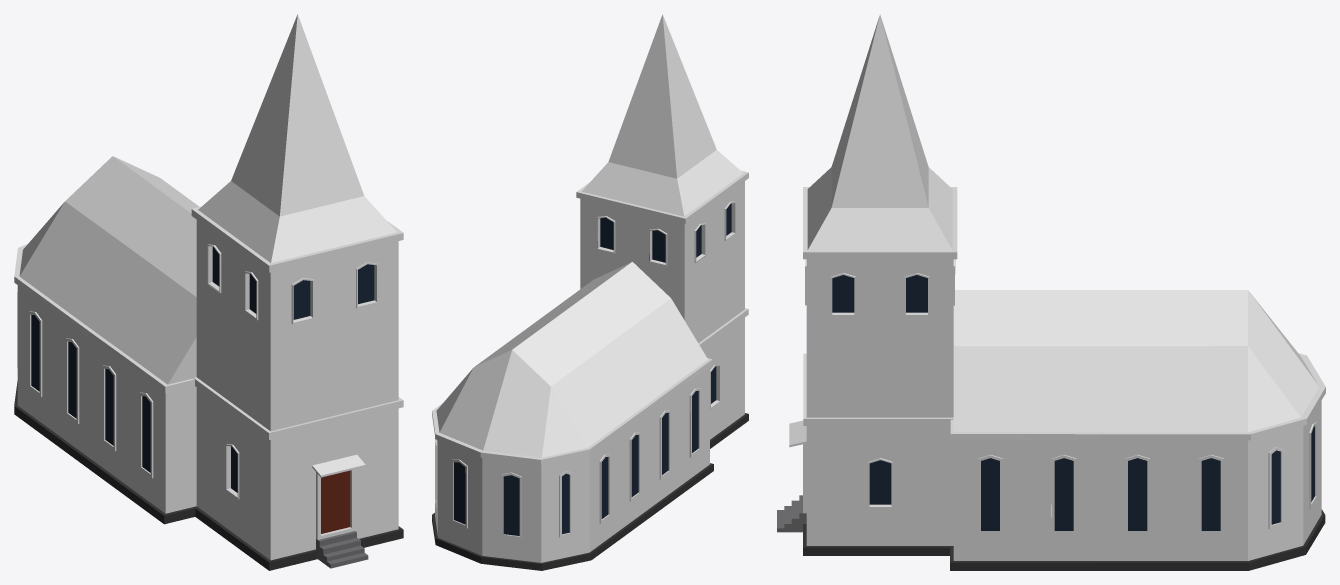
File: Buildings_Church_ver1.0.fbx
3 renders of one model, left to right at view 1: azimuth 30°, elevation 25°; view 2: azimuth 150°, elevation 25°; view 3: azimuth 270°, elevation 25°, orthographic. The views are drawn at different scales.
Visible parts, largest first — view 1: Church_Tower_MidPart, Church_Main_Roof, Church_Tower_Roof, Church_Tower_LowPart, Church_Main, Church_Main_Windows, Church_Tower_Windows, Church_Door, Church_Main_LowBevel, Church_Main_MidBevel, Church_Tower_MidBevel, Church_Tower_LowBevel (+2 smaller); view 2: Church_Main_Roof, Church_Main, Church_Tower_Roof, Church_Tower_MidPart, Church_Main_Windows, Church_Tower_LowPart, Church_Main_LowBevel, Church_Tower_Windows, Church_Main_MidBevel, Church_Tower_MidBevel; view 3: Church_Main_Roof, Church_Main, Church_Tower_MidPart, Church_Tower_Roof, Church_Tower_LowPart, Church_Main_Windows, Church_Main_LowBevel, Church_Main_MidBevel, Church_Tower_Windows, Church_Tower_MidBevel, Church_Tower_LowBevel, Church_Steps.
Part boxes in pixels (bbox=[...]): Church_Tower_MidPart: bbox=[196, 220, 398, 431]; Church_Main_Roof: bbox=[19, 156, 199, 384]; Church_Tower_Roof: bbox=[191, 14, 403, 272]; Church_Tower_LowPart: bbox=[196, 387, 398, 560]; Church_Main: bbox=[17, 285, 231, 513]; Church_Main_Windows: bbox=[17, 291, 153, 478]; Church_Tower_Windows: bbox=[207, 244, 378, 499]; Church_Door: bbox=[316, 469, 355, 539]; Church_Main_LowBevel: bbox=[14, 381, 197, 524]; Church_Main_MidBevel: bbox=[14, 244, 194, 392]; Church_Tower_MidBevel: bbox=[193, 377, 403, 439]; Church_Tower_LowBevel: bbox=[195, 507, 403, 570]; Church_Main_Roof: bbox=[436, 261, 707, 457]; Church_Main: bbox=[435, 367, 709, 562]; Church_Tower_Roof: bbox=[576, 14, 748, 224]; Church_Tower_MidPart: bbox=[580, 181, 744, 342]; Church_Main_Windows: bbox=[435, 388, 700, 539]; Church_Tower_LowPart: bbox=[702, 317, 744, 439]; Church_Main_LowBevel: bbox=[432, 463, 713, 570]; Church_Tower_Windows: bbox=[597, 201, 735, 409]; Church_Main_MidBevel: bbox=[432, 358, 712, 464]; Church_Tower_MidBevel: bbox=[698, 308, 748, 348]; Church_Main_Roof: bbox=[953, 290, 1319, 432]; Church_Main: bbox=[953, 401, 1321, 560]; Church_Tower_MidPart: bbox=[806, 259, 953, 417]; Church_Tower_Roof: bbox=[803, 14, 957, 259]; Church_Tower_LowPart: bbox=[806, 425, 953, 545]; Church_Main_Windows: bbox=[978, 422, 1316, 534]; Church_Main_LowBevel: bbox=[950, 509, 1325, 570]; Church_Main_MidBevel: bbox=[950, 353, 1325, 440]; Church_Tower_Windows: bbox=[805, 259, 955, 508]; Church_Tower_MidBevel: bbox=[803, 353, 953, 425]; Church_Tower_LowBevel: bbox=[803, 524, 949, 555]; Church_Steps: bbox=[777, 495, 806, 532].
Size of what is drawn, in the model's own units: 307 by 764 by 746.
